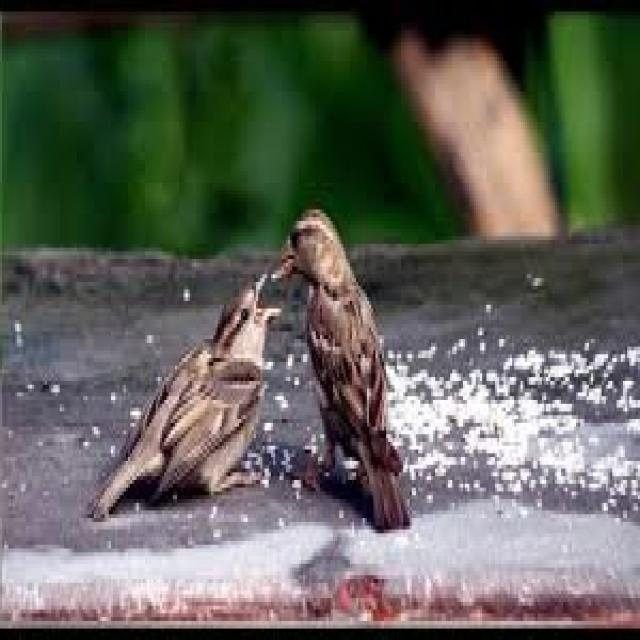sparrow: (94, 274, 282, 514), (286, 210, 410, 526)
